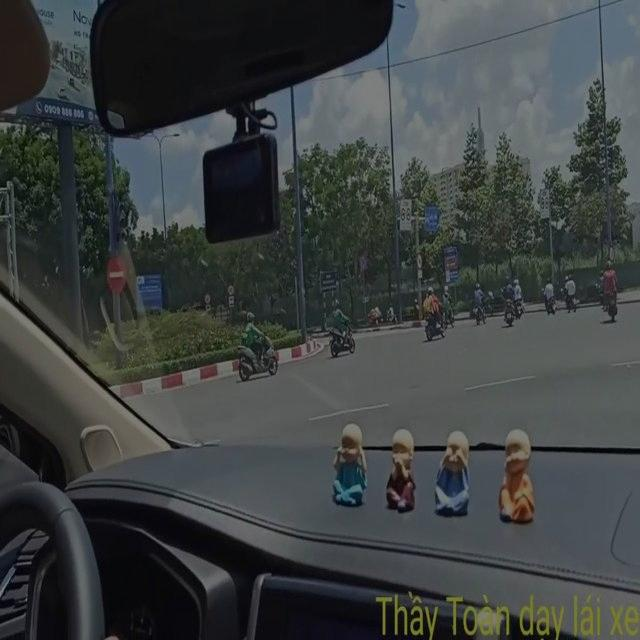Cấm các phương tiện hoạt động trong khung giờ cố định: (396, 191, 412, 230), (538, 186, 551, 222)
Cấm dừng - Cấm đỗ: (355, 248, 366, 270)
Cấm xe máy: (415, 247, 424, 266)
Cấm đi ngược chiều: (105, 252, 128, 295)
Giới hạn tốc độ: 60Km/h: (203, 293, 210, 304)
Giới hạn tốc độ: 80Km/h: (225, 282, 235, 295)
Khác: (135, 275, 160, 315), (443, 247, 461, 284), (316, 269, 340, 292)
Làn đường cho từng xe: (423, 201, 439, 231)
